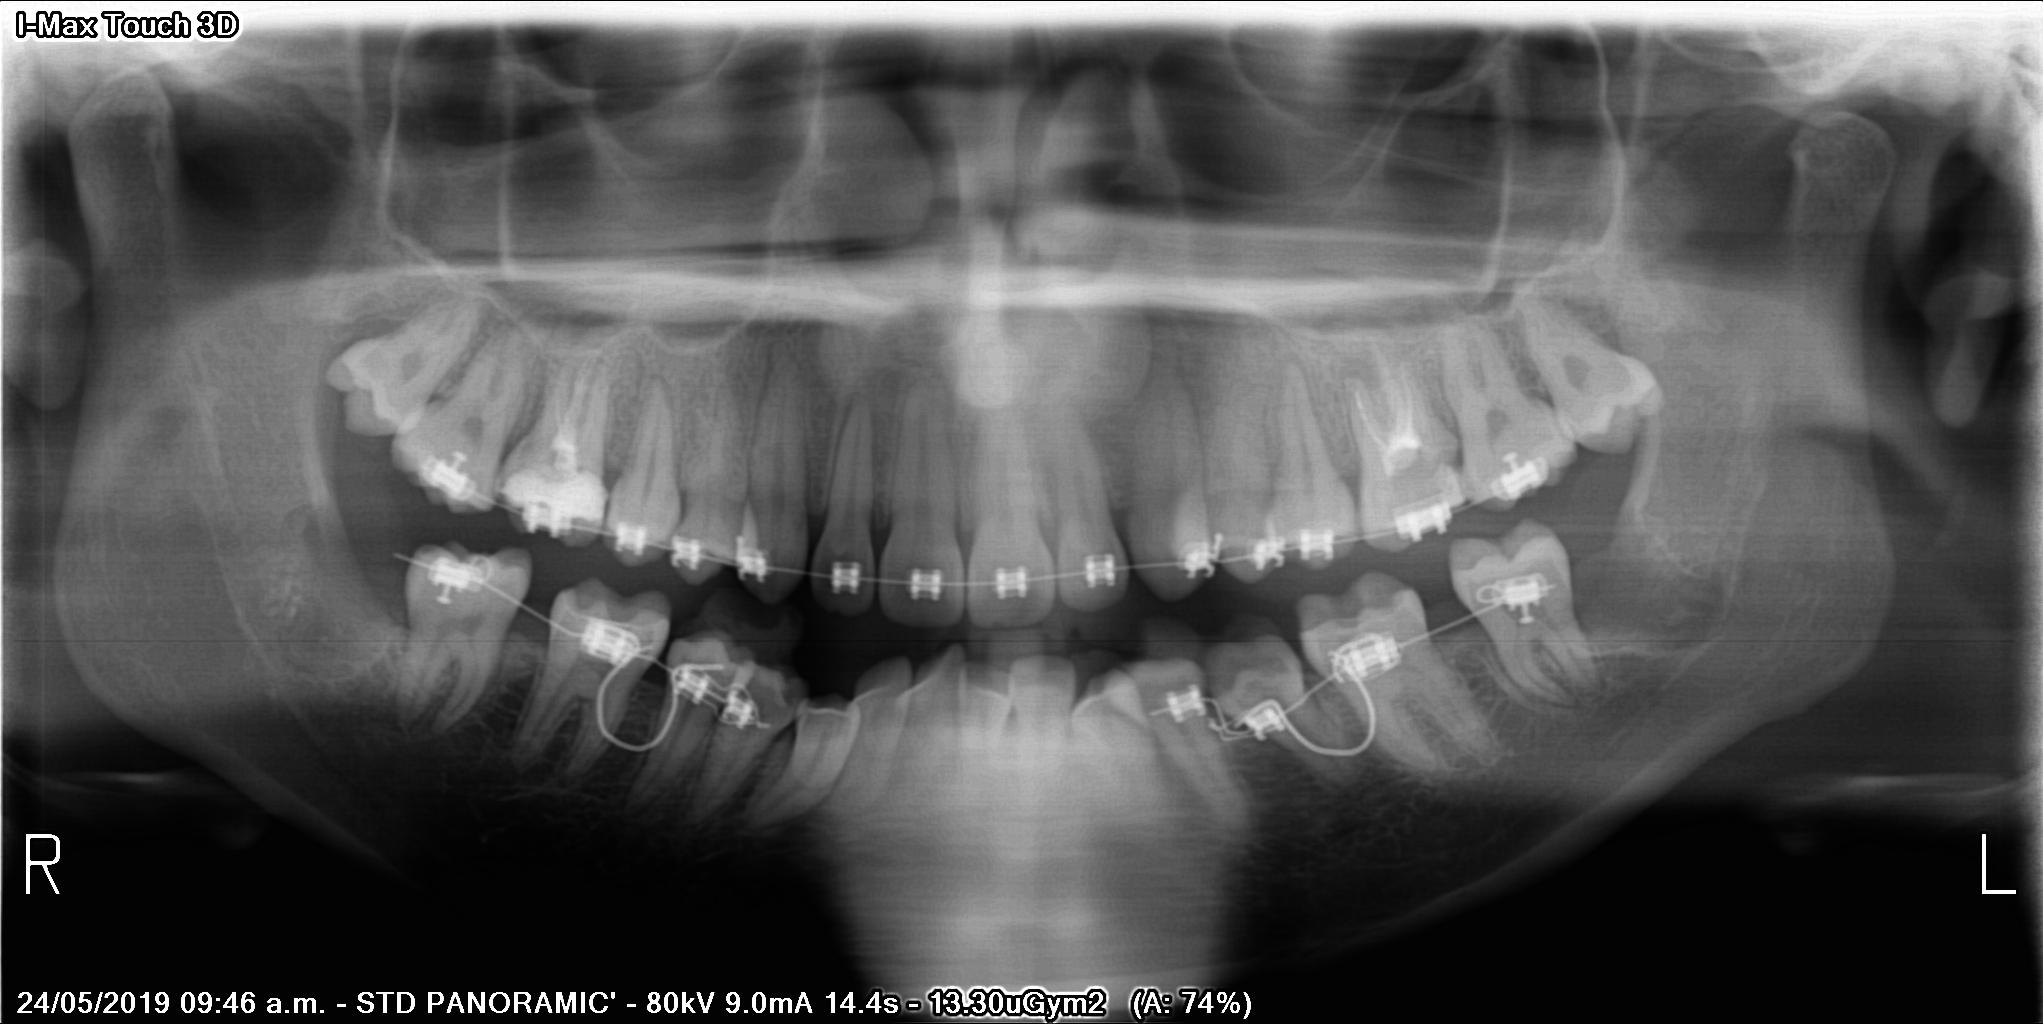Çürük: (510, 477, 604, 513), (735, 502, 764, 567)
Çürük Bölgesi: (1424, 443, 1470, 488), (775, 677, 807, 709)
